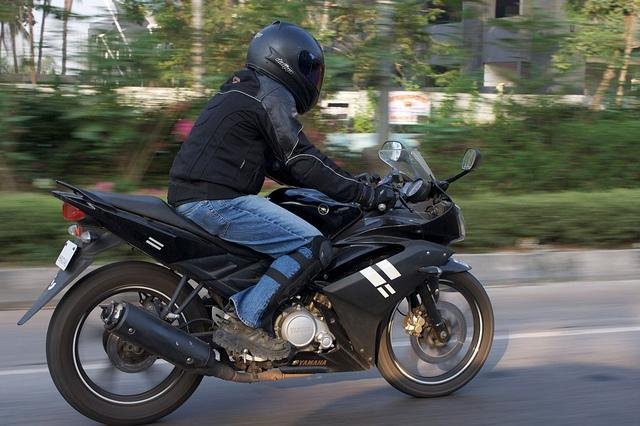helmet: (236, 20, 345, 119)
